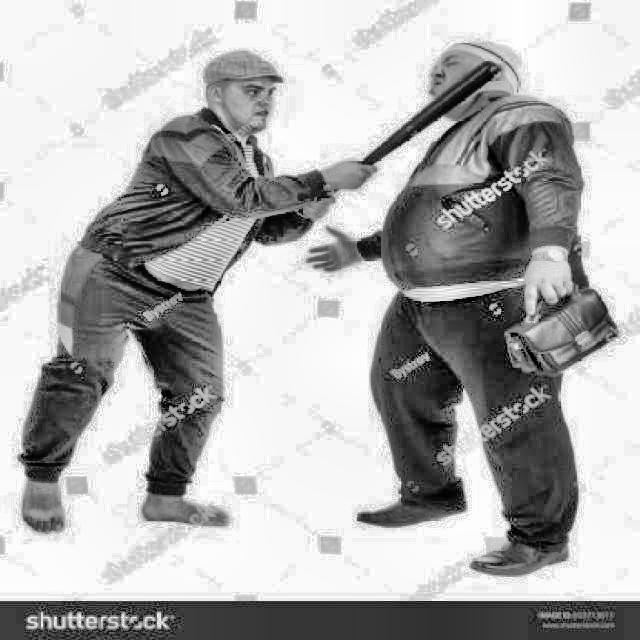robbery: (5, 22, 618, 593)
tongkat pemukul: (264, 53, 503, 233)
